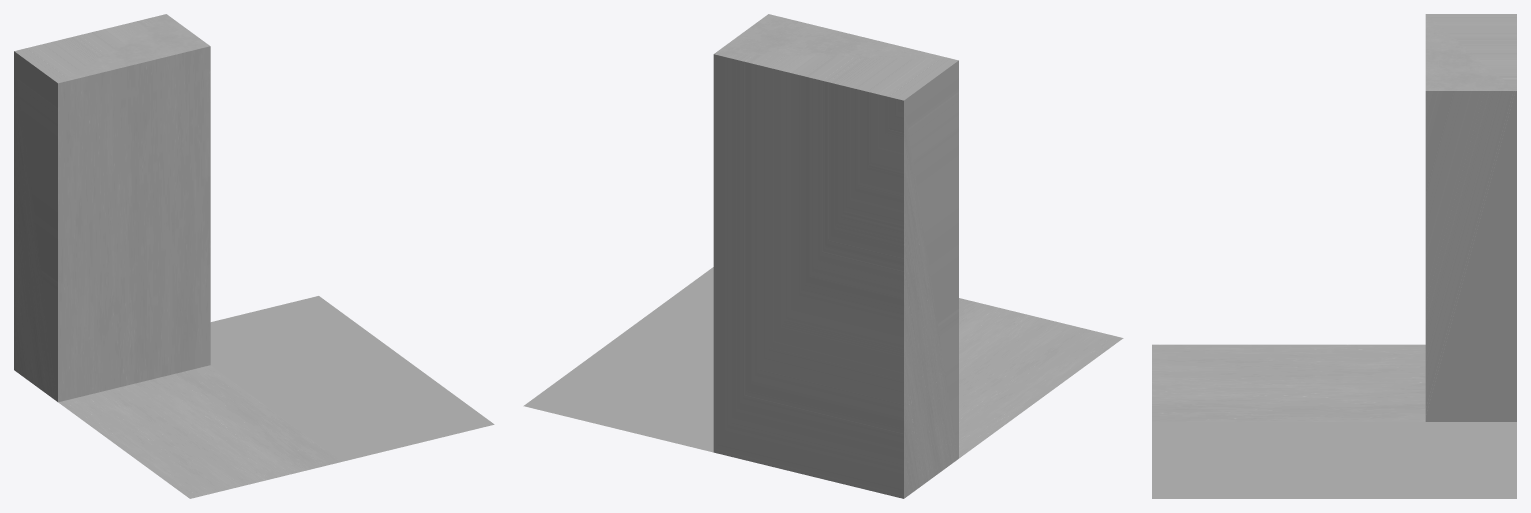
The model's file is flush_floor_endCap.glb.
3 renders of one model, left to right at view 1: azimuth 30°, elevation 25°; view 2: azimuth 150°, elevation 25°; view 3: azimuth 270°, elevation 25°, orthographic. The views are drawn at different scales.
Visible parts, largest first — view 1: flush.floor.endCap; view 2: flush.floor.endCap; view 3: flush.floor.endCap.
Part boxes in pixels (x1,y1,x2,y2): flush.floor.endCap: [14, 14, 494, 498]; flush.floor.endCap: [523, 14, 1123, 498]; flush.floor.endCap: [1152, 14, 1516, 498].
Bounding box in the file's own units: 0.5 × 0.5 × 0.5.
Materials: 1 (1 with a texture image).
